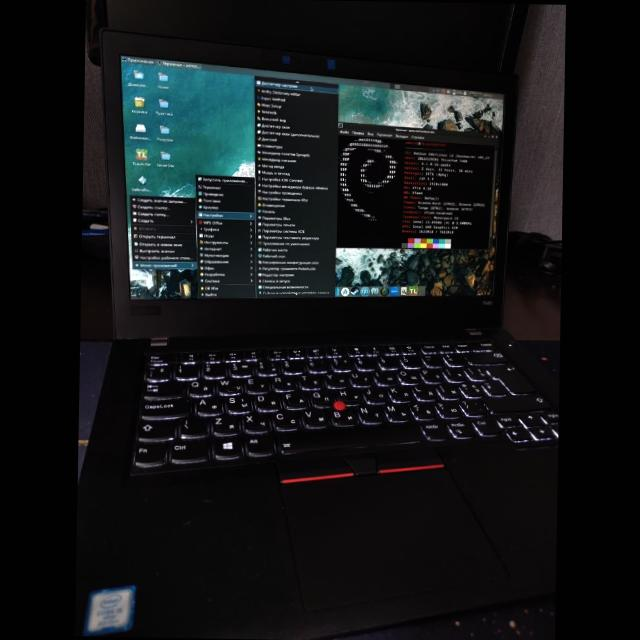laptop: (74, 27, 558, 639)
